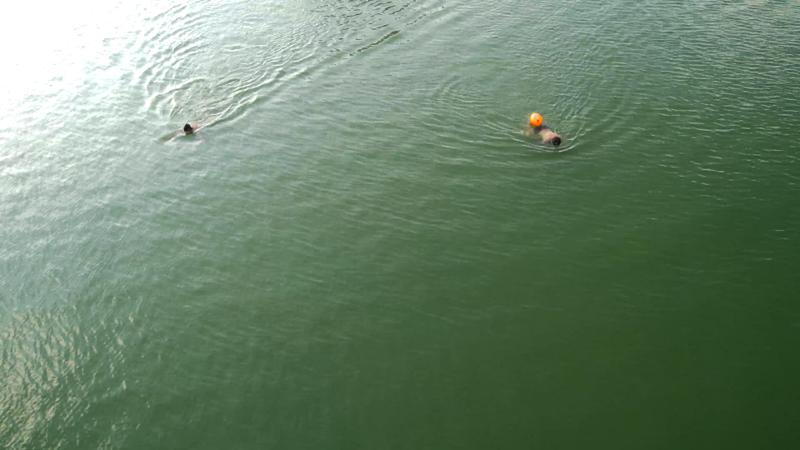swimmers: (521, 121, 563, 148)
